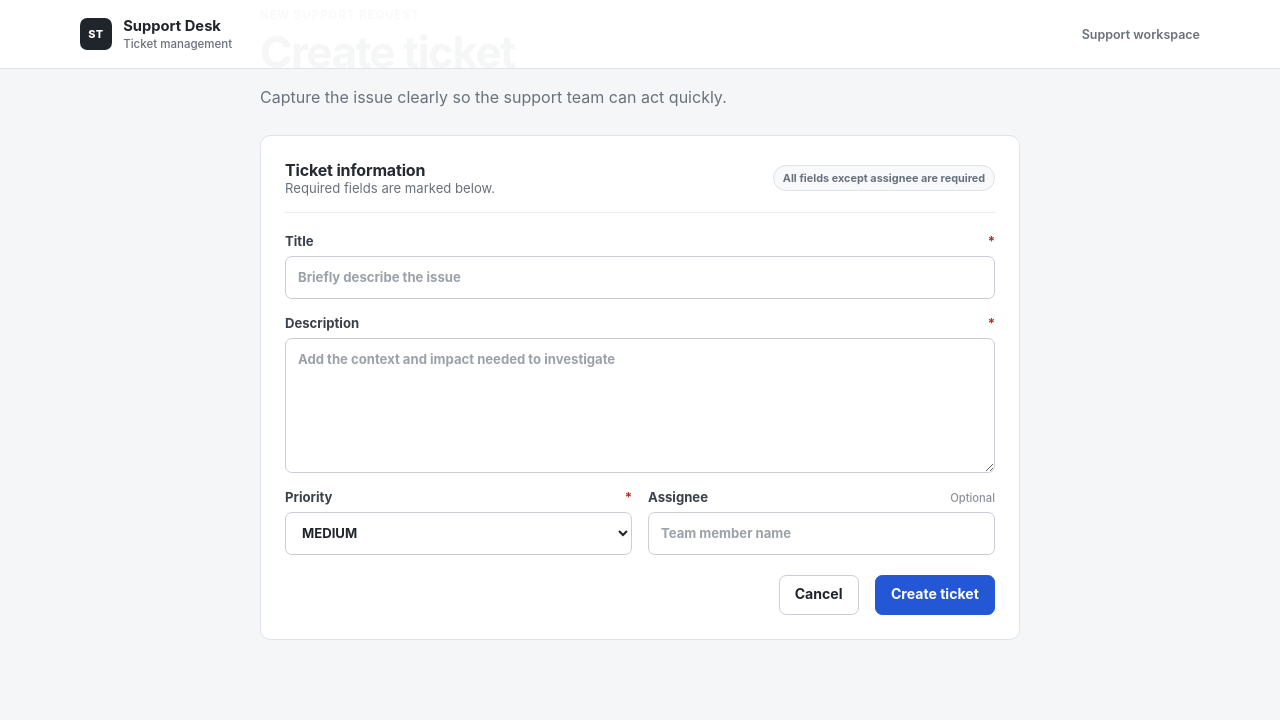
Scenario: support ticket application › validates create fields before submission
(page scrolled)
Click the button "Create ticket" at (935, 595), box 875,575 -> 995,615
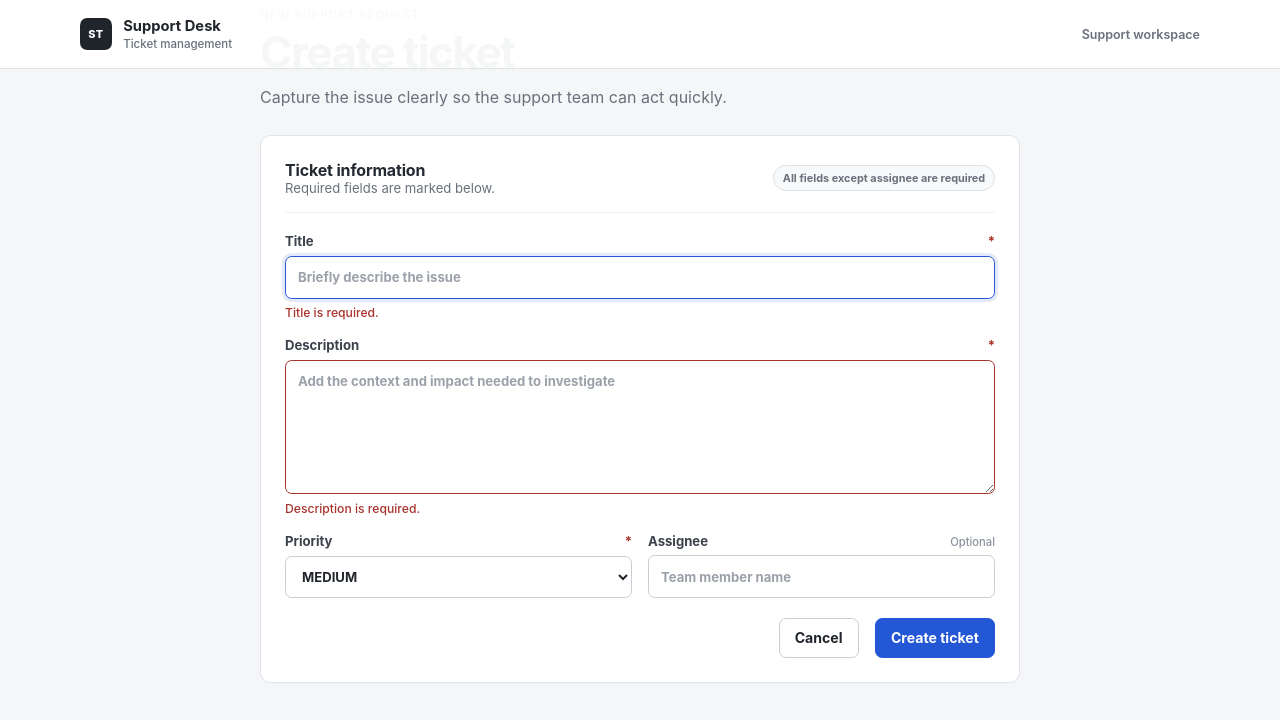
Expected: the text "Title is required." is shown, 285,305 -> 379,320
Expected: the text "Description is required." is shown, 285,501 -> 420,516
